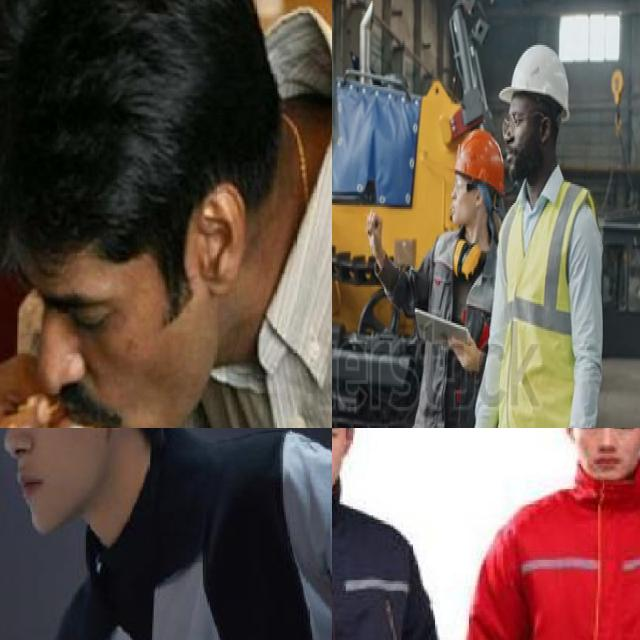Ear-protection: (451, 228, 487, 294)
No_Ear-Protection: (196, 184, 244, 300)
No_Glasses: (39, 277, 152, 349)
face_nomask: (39, 230, 200, 428), (4, 428, 99, 535), (570, 428, 639, 478)
glasses: (502, 102, 542, 137), (451, 176, 484, 199)
head_helmet: (497, 42, 574, 108), (450, 124, 506, 194)
head_nohelmet: (0, 7, 208, 278)
person: (0, 18, 332, 428), (0, 428, 332, 640), (488, 39, 608, 428), (455, 428, 640, 640), (332, 428, 452, 640)
vest: (499, 178, 599, 428)
